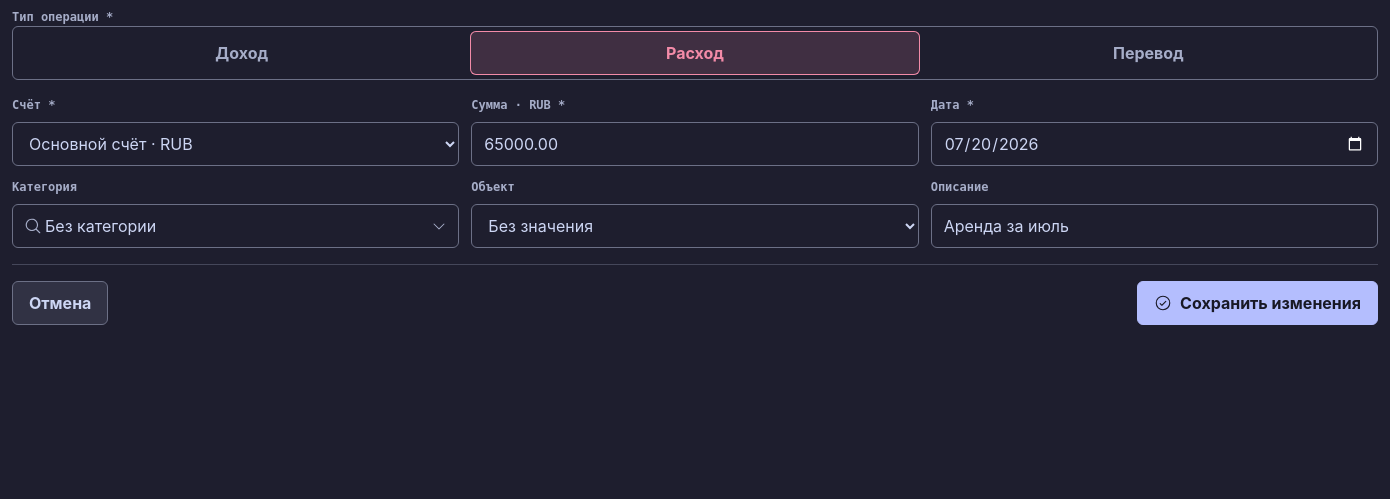
Test: manual operation editing › submits the loaded version and preserves a 422 draft
Replace the text in the field labelled "Сумма · RUB *" with "0" at (695, 144), box [471, 122, 919, 166]
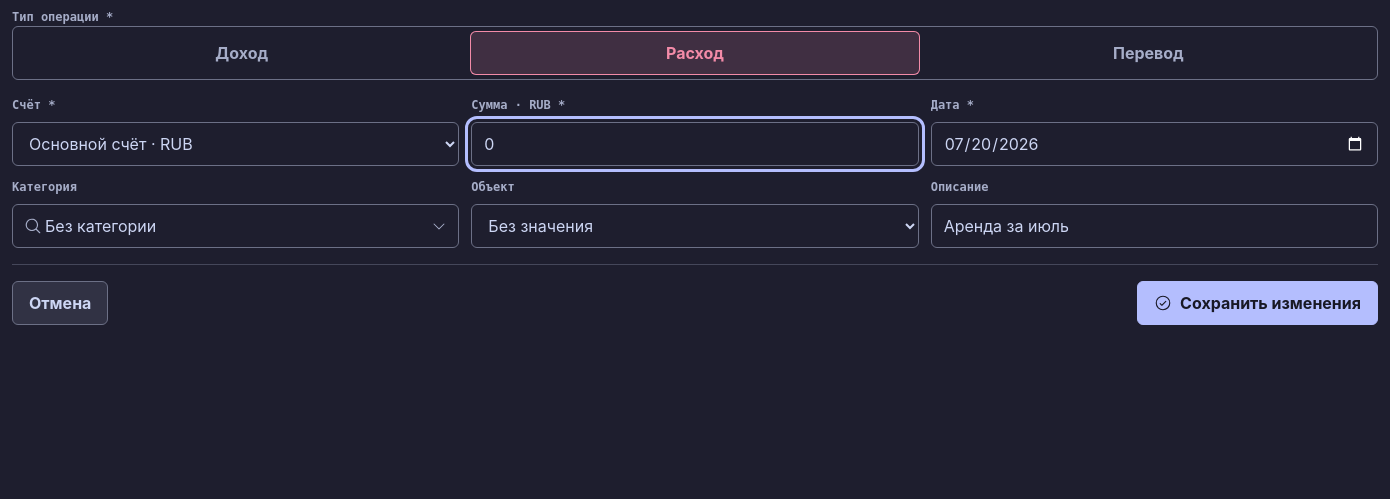
Click the button "Сохранить изменения" at (1258, 303), box [1137, 281, 1378, 325]
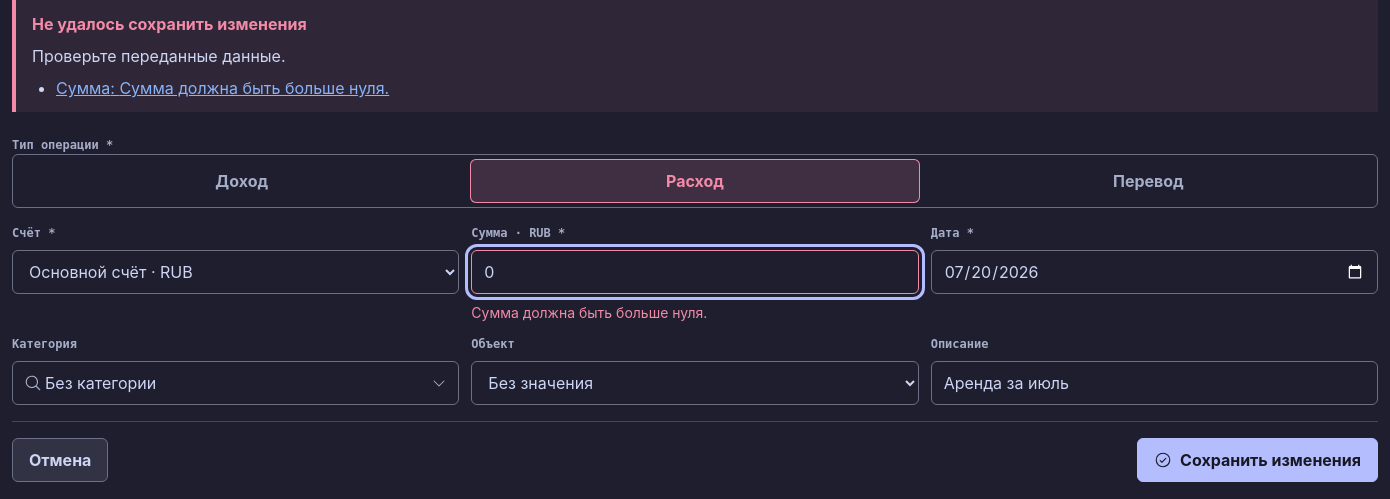
Result: the text "Сумма должна быть больше нуля." is shown once at [471, 304, 707, 321]
